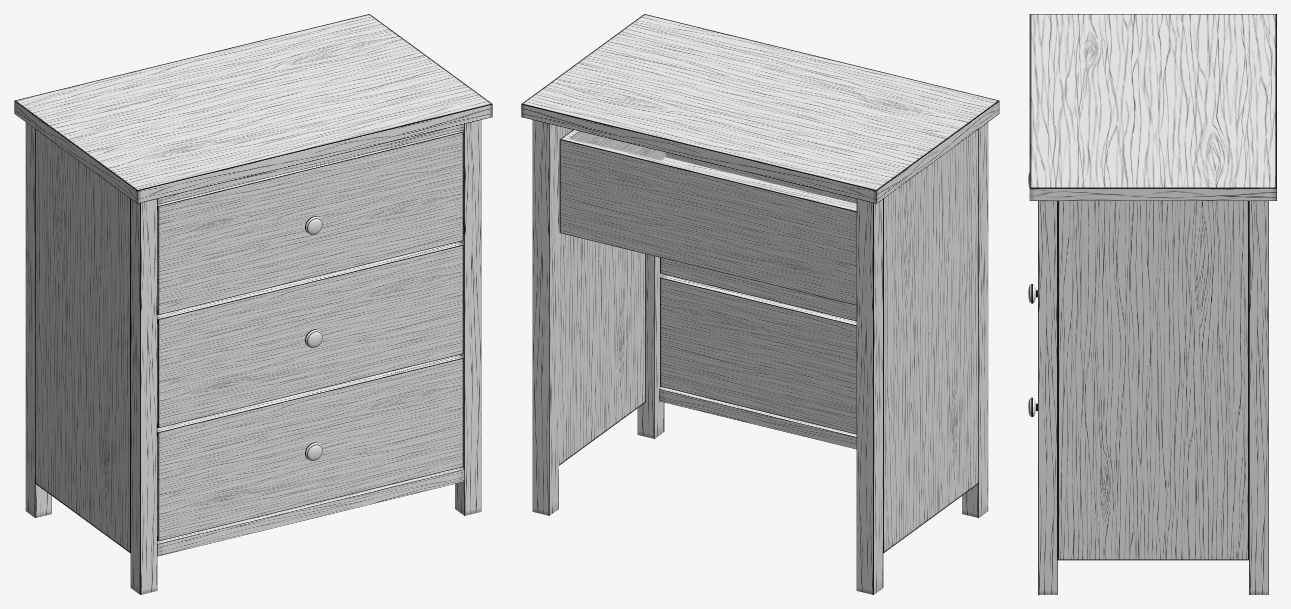
The model's file is cabinet-3.meshopt.glb.
The picture shows the model from 3 angles, left to right: view 1: azimuth 30°, elevation 25°; view 2: azimuth 150°, elevation 25°; view 3: azimuth 270°, elevation 25°; orthographic projection.
Parts seen in each view (by area): view 1: Top_panel, Drawer_2_front, Drawer_3_front, Drawer_1_box, Left_side_panel, Left_front_post, Right_front_post, Lower_front_rail, Left_rear_post, Upper_front_rail; view 2: Top_panel, Left_side_panel, Drawer_1_box, Drawer_3_front, Right_side_panel, Left_rear_post, Right_rear_post, Left_front_post, Drawer_2_front, Right_front_post, Lower_front_rail; view 3: Right_side_panel, Top_panel, Right_front_post, Right_rear_post.
Boxes of the visible parts, left/top/right/bottom form: Top_panel: left=14, top=14, right=492, bottom=203; Drawer_2_front: left=157, top=241, right=463, bottom=428; Drawer_3_front: left=157, top=355, right=463, bottom=541; Drawer_1_box: left=157, top=130, right=463, bottom=314; Left_side_panel: left=35, top=129, right=130, bottom=553; Left_front_post: left=130, top=199, right=157, bottom=594; Right_front_post: left=455, top=120, right=481, bottom=515; Lower_front_rail: left=157, top=467, right=464, bottom=556; Left_rear_post: left=25, top=122, right=51, bottom=517; Upper_front_rail: left=157, top=124, right=464, bottom=204; Top_panel: left=521, top=14, right=999, bottom=203; Left_side_panel: left=883, top=129, right=978, bottom=553; Drawer_1_box: left=559, top=129, right=856, bottom=305; Drawer_3_front: left=660, top=274, right=856, bottom=434; Right_side_panel: left=559, top=126, right=645, bottom=465; Left_rear_post: left=856, top=199, right=883, bottom=594; Right_rear_post: left=532, top=120, right=558, bottom=515; Left_front_post: left=962, top=122, right=988, bottom=517; Drawer_2_front: left=660, top=257, right=856, bottom=321; Right_front_post: left=637, top=254, right=664, bottom=438; Lower_front_rail: left=659, top=387, right=856, bottom=449; Right_side_panel: left=1057, top=201, right=1248, bottom=560; Top_panel: left=1029, top=14, right=1276, bottom=200; Right_front_post: left=1038, top=201, right=1057, bottom=594; Right_rear_post: left=1249, top=201, right=1268, bottom=594.
Bounding box in the file's own units: 0.8 × 0.88 × 0.4832.
Materials: 7 (5 with a texture image).
